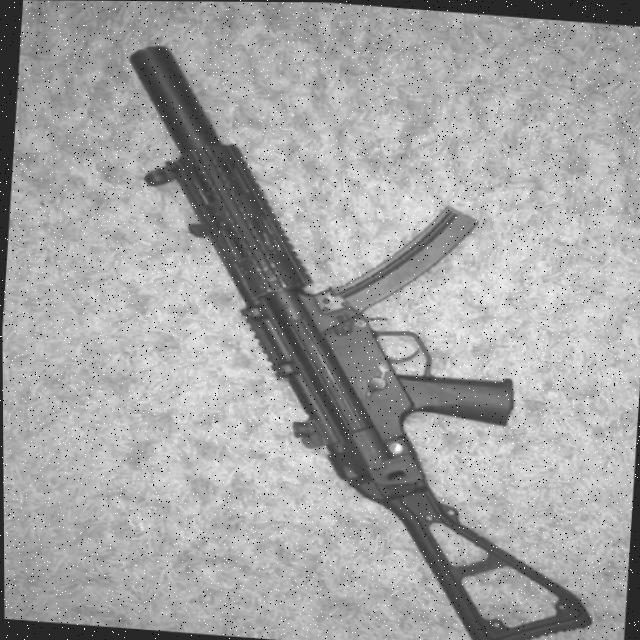firearm: (84, 41, 629, 640)
